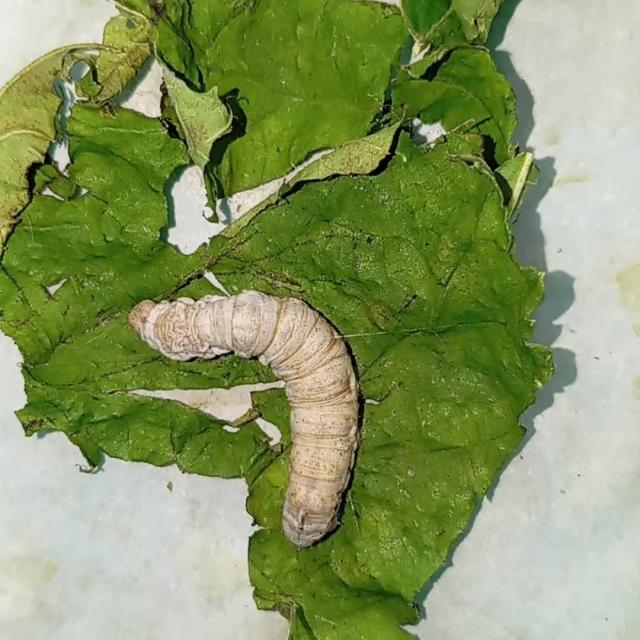Grasserie: (99, 263, 405, 562)
